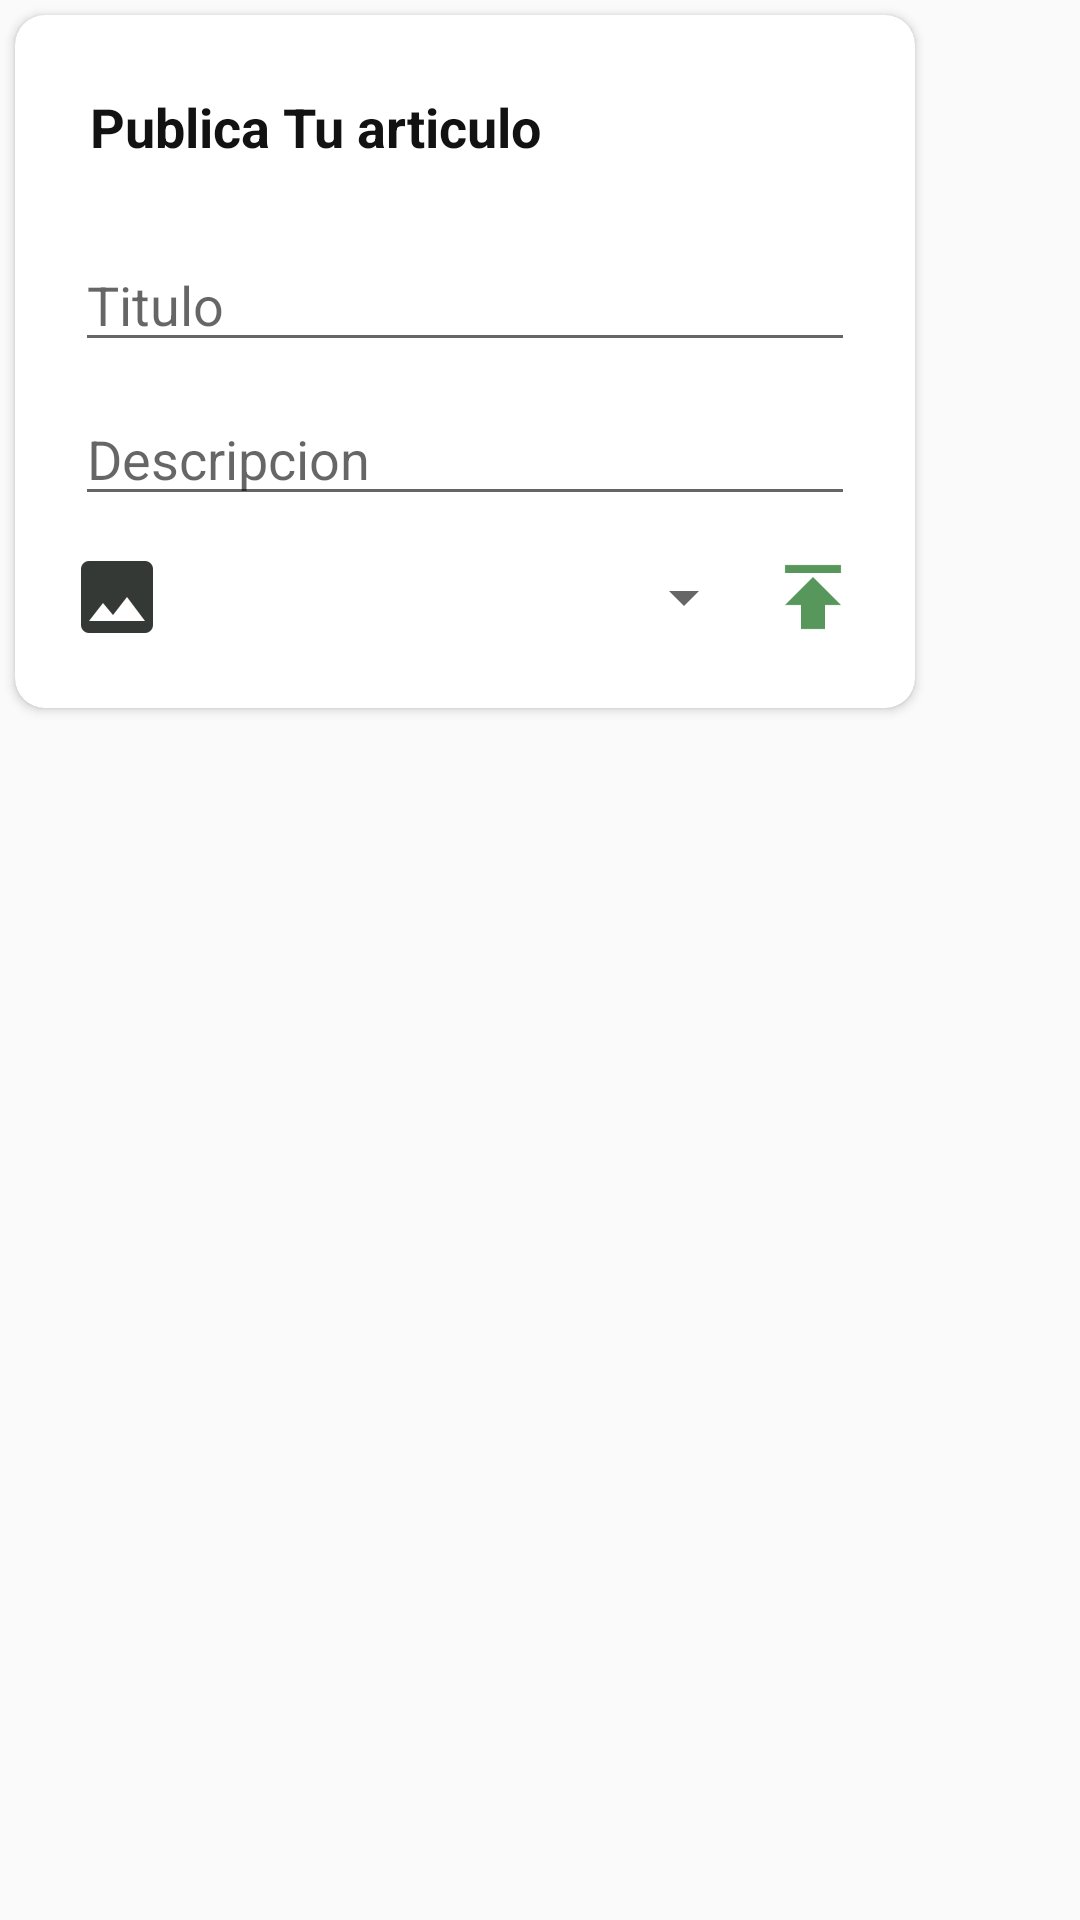

Locate icon controls on the screen. Image size 1080×1920, boxes as region(x1, y1, x2, y2).
publish: region(785, 565, 841, 629)
